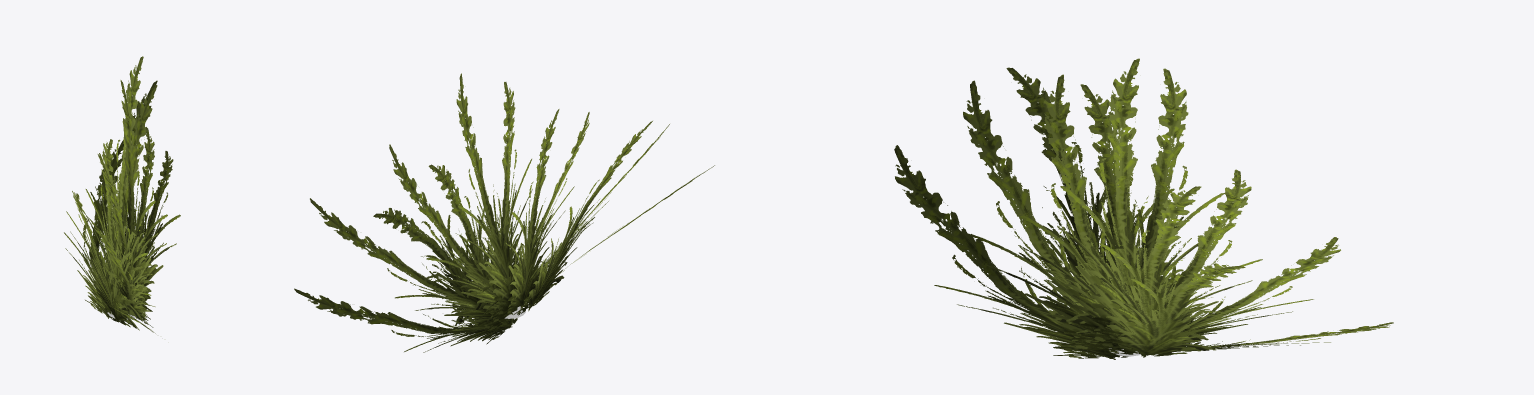
File: Grass 2.fbx
The picture shows the model from 3 angles, left to right: view 1: azimuth 30°, elevation 25°; view 2: azimuth 150°, elevation 25°; view 3: azimuth 270°, elevation 25°; orthographic projection. The views are drawn at different scales.
Visible parts, largest first — view 1: img_2506_1; view 2: img_2506_1; view 3: img_2506_1.
Part boxes in pixels (box(x1,y1,x2,y2)): img_2506_1: box(64, 56, 180, 333); img_2506_1: box(294, 73, 714, 352); img_2506_1: box(894, 58, 1393, 359).
Bounding box in the file's own units: 49.38 × 40.23 × 78.13.
Materials: 1 (1 with a texture image).
